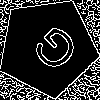G: (22, 22, 82, 82)
